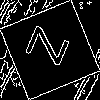Z: (25, 25, 79, 71)
